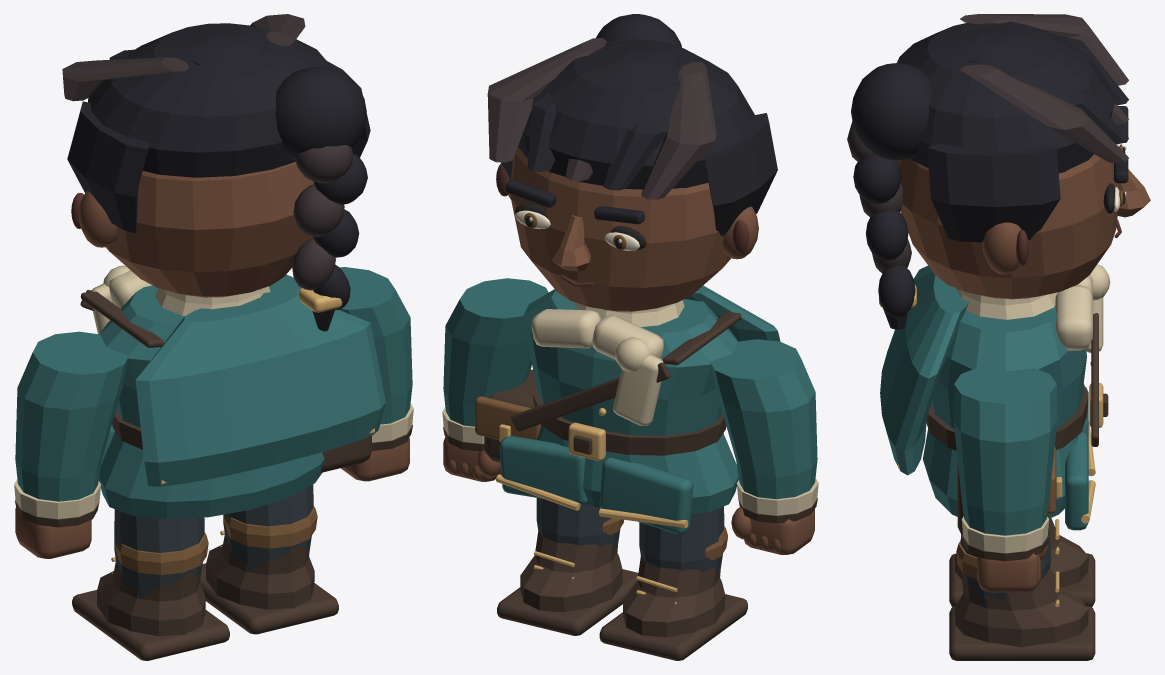
Rendered from mira.glb.
3 renders of one model, left to right at view 1: azimuth 30°, elevation 25°; view 2: azimuth 150°, elevation 25°; view 3: azimuth 270°, elevation 25°, orthographic. The views are drawn at different scales.
Visible parts, largest first — view 1: mira_back_mantle, mira_hair_crown, mira_face, mira_sleeve_-1, mira_tunic_body, mira_braid_root, mira_temple_-1, mira_sleeve_1, mira_boot_-1, mira_boot_1, mira_trouser_-1, mira_sole_-1 (+24 smaller); view 2: mira_face, mira_tunic_body, mira_hair_crown, mira_sleeve_-1, mira_sleeve_1, mira_boot_1, mira_boot_-1, mira_pulled_lock_0, mira_temple_-1, mira_split_tail_-1, mira_pulled_lock_4, mira_split_tail_1 (+30 smaller); view 3: mira_hair_crown, mira_sleeve_1, mira_face, mira_tunic_body, mira_temple_1, mira_back_mantle, mira_boot_1, mira_braid_root, mira_pulled_lock_4, mira_sole_1, mira_pulled_lock_0, mira_scarf_fold_1 (+22 smaller).
Part boxes in pixels (<box>): mira_back_mantle: <box>135,291,385,486</box>; mira_hair_crown: <box>88,23,332,177</box>; mira_face: <box>106,162,313,297</box>; mira_sleeve_-1: <box>15,331,128,501</box>; mira_tunic_body: <box>98,274,324,519</box>; mira_braid_root: <box>275,67,366,159</box>; mira_temple_-1: <box>67,101,149,233</box>; mira_sleeve_1: <box>339,267,412,424</box>; mira_boot_-1: <box>97,561,205,636</box>; mira_boot_1: <box>206,535,314,609</box>; mira_trouser_-1: <box>114,509,204,598</box>; mira_sole_-1: <box>72,590,229,660</box>; mira_face: <box>510,147,731,311</box>; mira_tunic_body: <box>521,289,738,514</box>; mira_hair_crown: <box>518,39,754,189</box>; mira_sleeve_-1: <box>710,339,817,499</box>; mira_sleeve_1: <box>443,278,548,426</box>; mira_boot_1: <box>520,530,622,612</box>; mira_boot_-1: <box>623,556,725,637</box>; mira_pulled_lock_0: <box>641,62,716,199</box>; mira_temple_-1: <box>704,113,777,235</box>; mira_split_tail_-1: <box>599,458,693,534</box>; mira_pulled_lock_4: <box>487,38,607,162</box>; mira_split_tail_1: <box>499,436,587,504</box>; mira_hair_crown: <box>897,21,1115,173</box>; mira_sleeve_1: <box>953,368,1057,535</box>; mira_face: <box>896,154,1119,299</box>; mira_tunic_body: <box>923,305,1086,518</box>; mira_temple_1: <box>927,143,1060,242</box>; mira_back_mantle: <box>880,265,968,475</box>; mira_boot_1: <box>954,567,1088,647</box>; mira_braid_root: <box>851,63,932,160</box>; mira_pulled_lock_4: <box>960,64,1128,163</box>; mira_sole_1: <box>949,606,1095,660</box>; mira_pulled_lock_0: <box>960,14,1128,85</box>; mira_scarf_fold_1: <box>1055,285,1092,350</box>.
Size of the model in its own units: 0.818 by 1.18 by 0.562.
